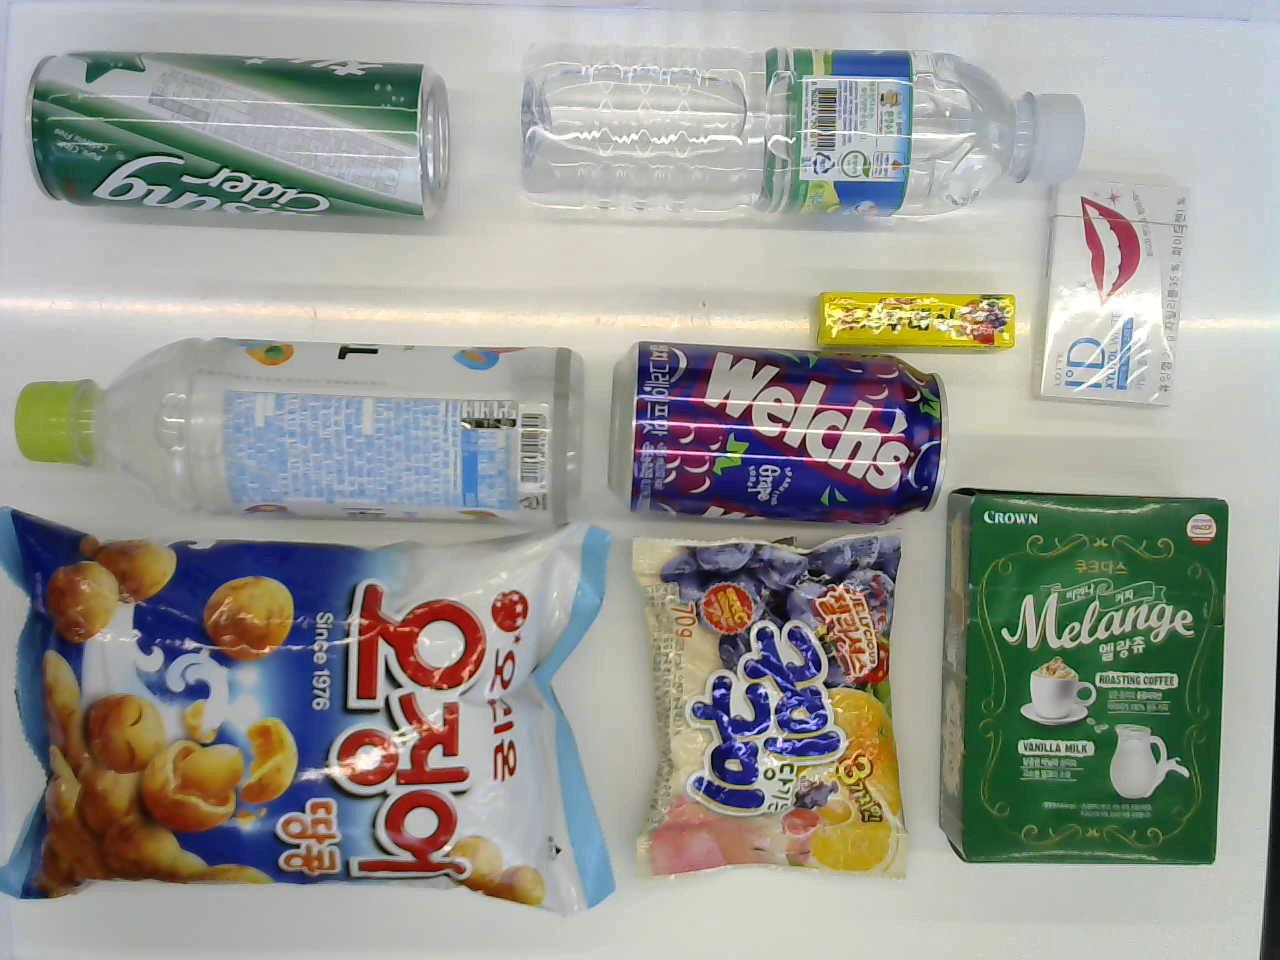ID_gum: (1039, 166, 1198, 424)
cidar: (27, 38, 456, 237)
couque_coffee: (940, 475, 1242, 868)
gumi_gumi: (627, 528, 913, 870)
juicyfresh: (809, 272, 1028, 349)
samdasu: (509, 44, 1098, 224)
squid_peanut: (11, 515, 619, 911)
toreta: (0, 336, 586, 516)
welchs: (603, 334, 942, 524)
